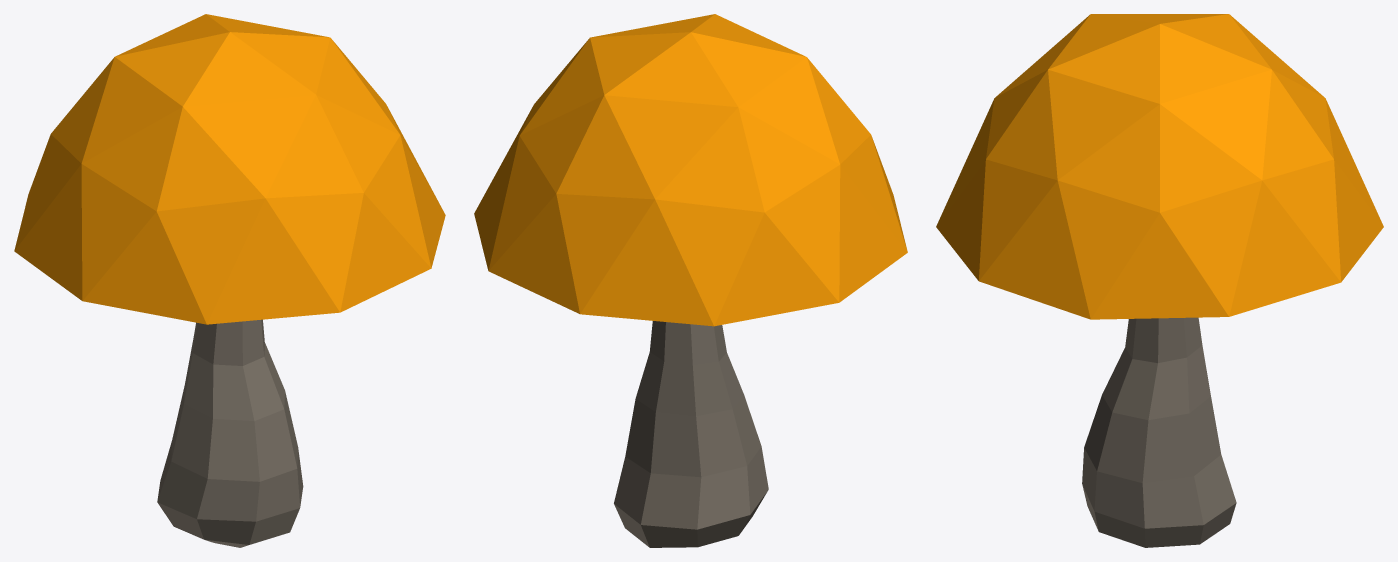
File: mushroom-2.glb
3 renders of one model, left to right at view 1: azimuth 30°, elevation 25°; view 2: azimuth 150°, elevation 25°; view 3: azimuth 270°, elevation 25°, orthographic.
Parts seen in each view (by area): view 1: Mushroom 2; view 2: Mushroom 2; view 3: Mushroom 2.
Boxes of the visible parts, x1,y1,x2,y2 form: Mushroom 2: (14,14,445,547); Mushroom 2: (474,14,907,547); Mushroom 2: (936,14,1383,547).
Bounding box in the file's own units: 1.24 × 1.62 × 1.3.
